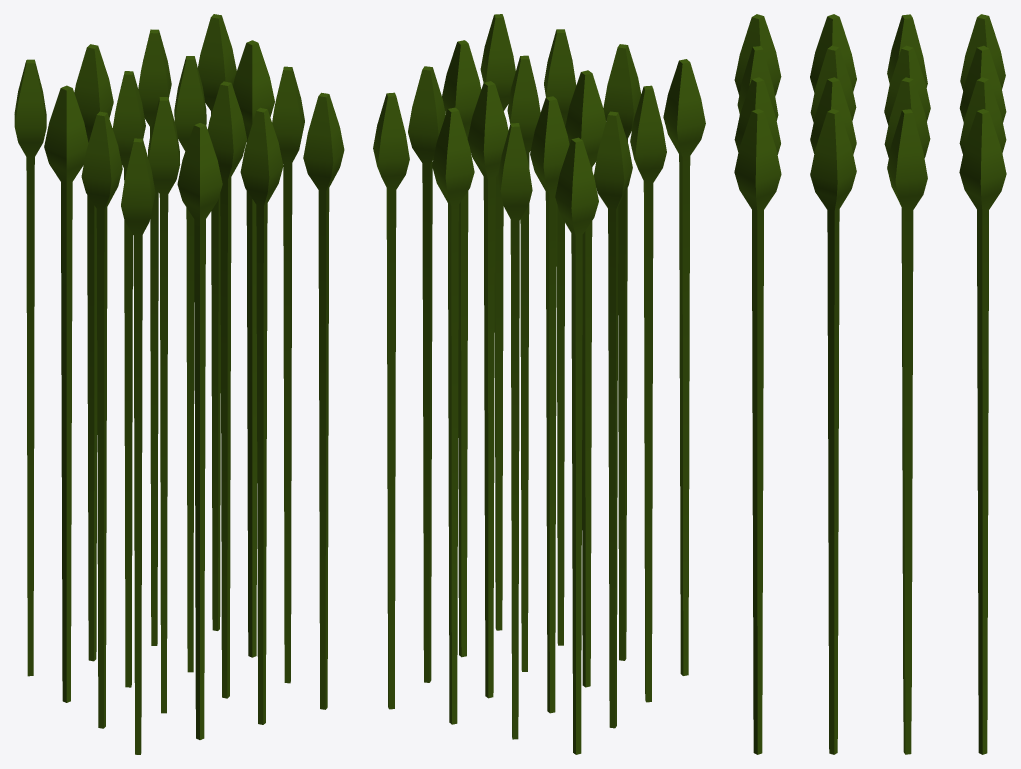
The model's file is Cob.fbx.
3 views of the same model, side by side, from view 1: azimuth 30°, elevation 25°; view 2: azimuth 150°, elevation 25°; view 3: azimuth 270°, elevation 25° (orthographic). The views are drawn at different scales.
Parts seen in each view (by area): view 1: Mesh; view 2: Mesh; view 3: Mesh.
Boxes of the visible parts, x1,y1,x2,y2 form: Mesh: (14, 14, 344, 754); Mesh: (373, 14, 705, 754); Mesh: (734, 14, 1006, 754).
Size of the model in its own units: 99.86 by 260 by 100.
